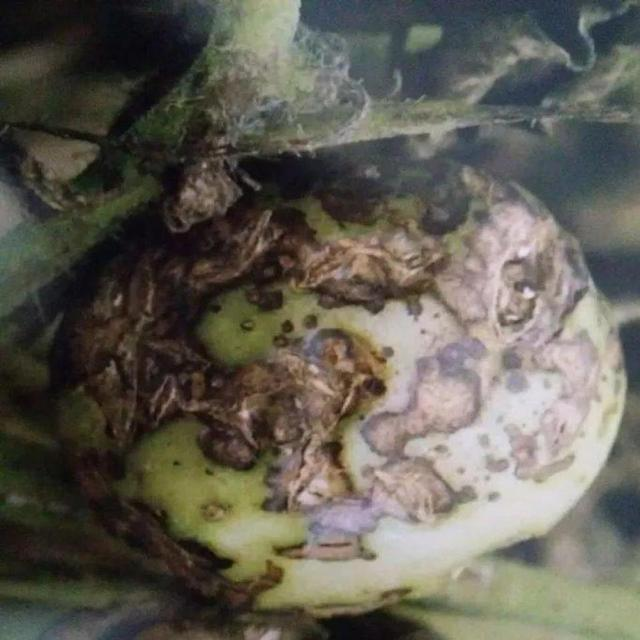Spotted wilt Virus Fruit: (38, 102, 420, 409)
